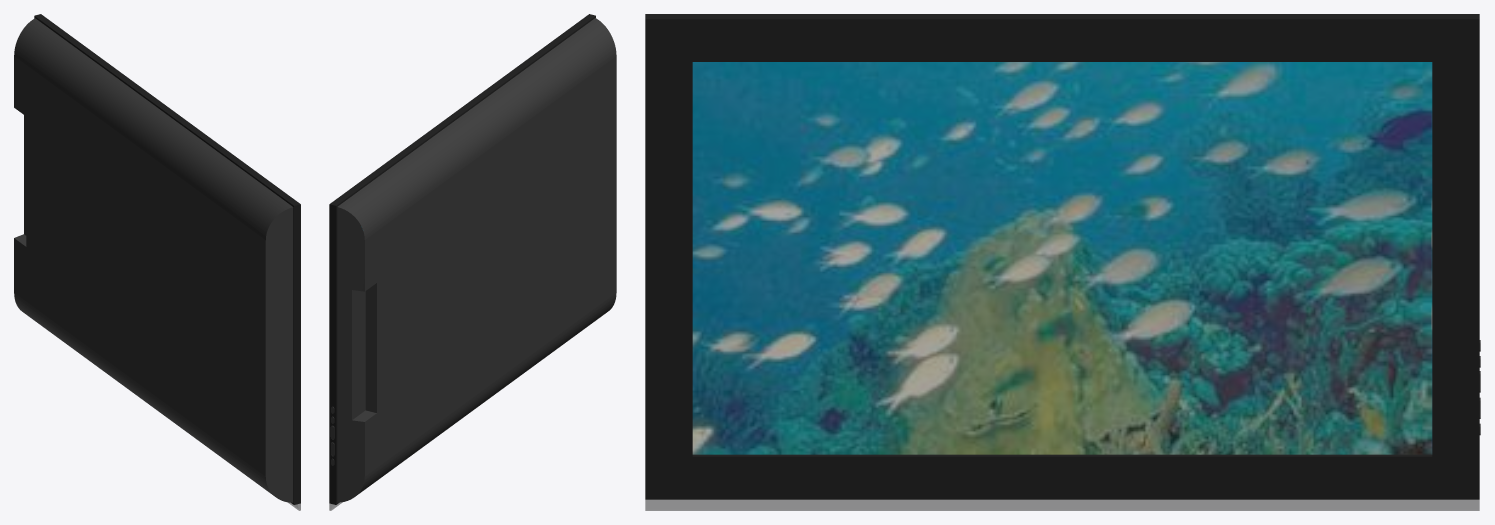
3 renders of one model, left to right at view 1: azimuth 30°, elevation 25°; view 2: azimuth 150°, elevation 25°; view 3: azimuth 270°, elevation 25°, orthographic. The views are drawn at different scales.
Parts seen in each view (by area): view 1: Mesh8_Group2_Group1________TV_9_1_Model.001; view 2: Mesh8_Group2_Group1________TV_9_1_Model.001; view 3: Mesh8_Group2_Group1________TV_9_1_Model.001.
Part boxes in pixels (<box>): Mesh8_Group2_Group1________TV_9_1_Model.001: <box>14,14,300,510</box>; Mesh8_Group2_Group1________TV_9_1_Model.001: <box>329,14,616,510</box>; Mesh8_Group2_Group1________TV_9_1_Model.001: <box>645,14,1480,510</box>.
Size of the model in its own units: 0.0691 by 0.6496 by 1.
5 materials, 1 textured.
